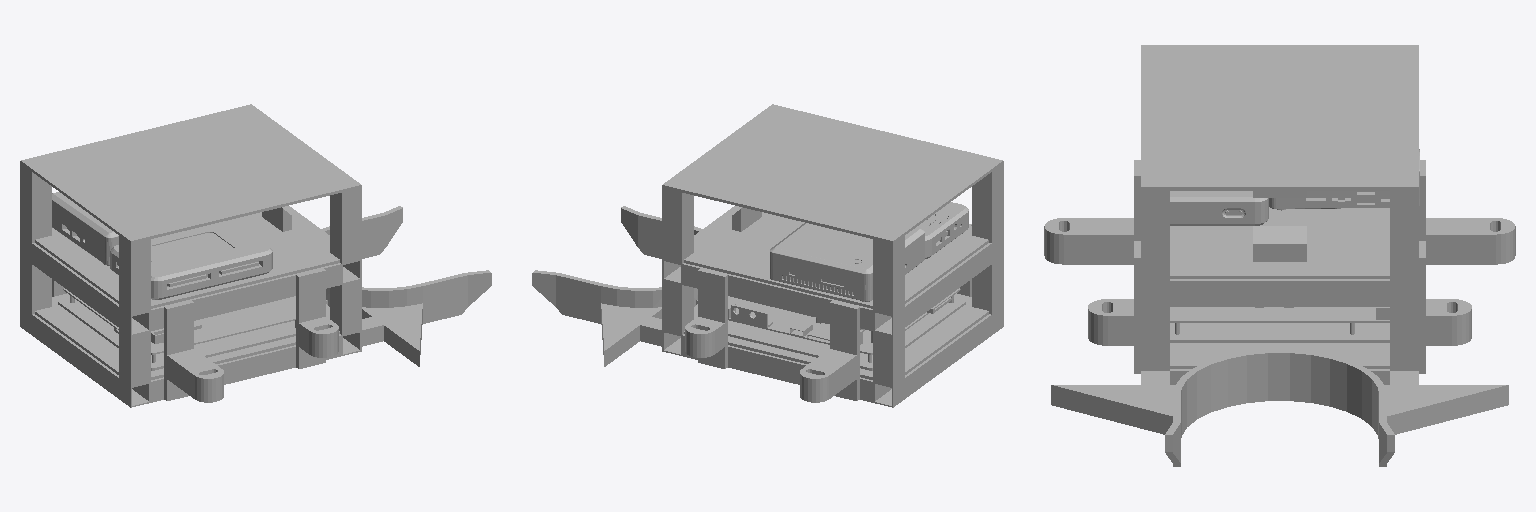
The robot description file, URDF, robot "lide":
<?xml version="1.0" encoding="utf-8"?>
<!-- This URDF was automatically created by SolidWorks to URDF Exporter! Originally created by [author] ([email redacted]) 
     Commit Version: 1.5.1-0-g916b5db  Build Version: 1.5.7152.31018
     For more information, please see http://wiki.ros.org/sw_urdf_exporter -->
<robot
  name="lide">
  <link
    name="base_link">
    <inertial>
      <origin
        xyz="-0.128036162467698 0.0849000506865905 0.0505742338532695"
        rpy="0 0 0" />
      <mass
        value="2.92032891635219" />
      <inertia
        ixx="0.00623119457208926"
        ixy="-6.06137450802783E-07"
        ixz="-1.19575978629178E-05"
        iyy="0.00559464379591167"
        iyz="-3.44724488787282E-07"
        izz="0.0111645591761783" />
    </inertial>
    <visual>
      <origin
        xyz="0 0 0"
        rpy="0 0 0" />
      <geometry>
        <mesh
          filename="package://lide/meshes/base_link.STL" />
      </geometry>
      <material
        name="">
        <color
          rgba="0.752941176470588 0.752941176470588 0.752941176470588 1" />
      </material>
    </visual>
    <collision>
      <origin
        xyz="0 0 0"
        rpy="0 0 0" />
      <geometry>
        <mesh
          filename="package://lide/meshes/base_link.STL" />
      </geometry>
    </collision>
  </link>
  <link
    name="LFS">
    <inertial>
      <origin
        xyz="0.0455604268709419 0.00830943309140332 0.00297622851896683"
        rpy="0 0 0" />
      <mass
        value="0.0727928435161986" />
      <inertia
        ixx="2.20927876796312E-05"
        ixy="-1.64845302056301E-08"
        ixz="-1.5645477317522E-07"
        iyy="1.62632133784213E-05"
        iyz="2.96411876511233E-09"
        izz="1.80843397531752E-05" />
    </inertial>
    <visual>
      <origin
        xyz="0 0 0"
        rpy="0 0 0" />
      <geometry>
        <mesh
          filename="package://lide/meshes/LFS.STL" />
      </geometry>
      <material
        name="">
        <color
          rgba="0.752941176470588 0.752941176470588 0.752941176470588 1" />
      </material>
    </visual>
    <collision>
      <origin
        xyz="0 0 0"
        rpy="0 0 0" />
      <geometry>
        <mesh
          filename="package://lide/meshes/LFS.STL" />
      </geometry>
    </collision>
  </link>
  <joint
    name="LFS"
    type="fixed">
    <origin
      xyz="-0.059044 0.1674 -0.036503"
      rpy="1.5708 0 1.5708" />
    <parent
      link="base_link" />
    <child
      link="LFS" />
    <axis
      xyz="0 0 0" />
  </joint>
  <link
    name="LFW">
    <inertial>
      <origin
        xyz="0.015 -6.93889390390723E-18 0"
        rpy="0 0 0" />
      <mass
        value="0.767080911081153" />
      <inertia
        ixx="0.00116426102407189"
        ixy="-1.25105048588131E-22"
        ixz="-1.83311841364852E-20"
        iyy="0.000639661580367031"
        iyz="-6.7762635780344E-21"
        izz="0.000639661580367032" />
    </inertial>
    <visual>
      <origin
        xyz="0 0 0"
        rpy="0 0 0" />
      <geometry>
        <mesh
          filename="package://lide/meshes/LFW.STL" />
      </geometry>
      <material
        name="">
        <color
          rgba="0.898039215686275 0.917647058823529 0.929411764705882 1" />
      </material>
    </visual>
    <collision>
      <origin
        xyz="0 0 0"
        rpy="0 0 0" />
      <geometry>
        <mesh
          filename="package://lide/meshes/LFW.STL" />
      </geometry>
    </collision>
  </link>
  <joint
    name="LFW"
    type="continuous">
    <origin
      xyz="0.063346 -0.006798 0.015044"
      rpy="-1.6264 0 0" />
    <parent
      link="LFS" />
    <child
      link="LFW" />
    <axis
      xyz="1 0 0" />
    <limit
      effort="3.1"
      velocity="7" />
  </joint>
  <link
    name="RFS">
    <inertial>
      <origin
        xyz="-0.0191828308457407 -0.00900932874707057 0.0520056318885905"
        rpy="0 0 0" />
      <mass
        value="0.0727928435161986" />
      <inertia
        ixx="2.20927876796313E-05"
        ixy="-1.64845302056311E-08"
        ixz="1.56454773175212E-07"
        iyy="1.62632133784213E-05"
        iyz="-2.96411876510581E-09"
        izz="1.80843397531752E-05" />
    </inertial>
    <visual>
      <origin
        xyz="0 0 0"
        rpy="0 0 0" />
      <geometry>
        <mesh
          filename="package://lide/meshes/RFS.STL" />
      </geometry>
      <material
        name="">
        <color
          rgba="0.752941176470588 0.752941176470588 0.752941176470588 1" />
      </material>
    </visual>
    <collision>
      <origin
        xyz="0 0 0"
        rpy="0 0 0" />
      <geometry>
        <mesh
          filename="package://lide/meshes/RFS.STL" />
      </geometry>
    </collision>
  </link>
  <joint
    name="RFS"
    type="fixed">
    <origin
      xyz="-0.10807 -0.027781 -0.019216"
      rpy="1.5708 0 1.5708" />
    <parent
      link="base_link" />
    <child
      link="RFS" />
    <axis
      xyz="0 0 0" />
  </joint>
  <link
    name="RFW">
    <inertial>
      <origin
        xyz="-0.015 -3.46944695195361E-18 0"
        rpy="0 0 0" />
      <mass
        value="0.767080911081152" />
      <inertia
        ixx="0.00116426102407189"
        ixy="-4.9281223125782E-37"
        ixz="4.60638074444741E-39"
        iyy="0.000639661580367031"
        iyz="-5.25031148738029E-37"
        izz="0.000639661580367031" />
    </inertial>
    <visual>
      <origin
        xyz="0 0 0"
        rpy="0 0 0" />
      <geometry>
        <mesh
          filename="package://lide/meshes/RFW.STL" />
      </geometry>
      <material
        name="">
        <color
          rgba="0.898039215686275 0.917647058823529 0.929411764705882 1" />
      </material>
    </visual>
    <collision>
      <origin
        xyz="0 0 0"
        rpy="0 0 0" />
      <geometry>
        <mesh
          filename="package://lide/meshes/RFW.STL" />
      </geometry>
    </collision>
  </link>
  <joint
    name="RFW"
    type="continuous">
    <origin
      xyz="-0.036969 -0.024084 0.064073"
      rpy="0 0 0" />
    <parent
      link="RFS" />
    <child
      link="RFW" />
    <axis
      xyz="1 0 0" />
    <limit
      effort="3.1"
      velocity="7" />
  </joint>
  <link
    name="LBS">
    <inertial>
      <origin
        xyz="-4.7988246709707E-10 -0.0234733898228721 -1.16815021544703E-09"
        rpy="0 0 0" />
      <mass
        value="0.0835358720814331" />
      <inertia
        ixx="7.72968060896302E-05"
        ixy="-8.60478095936647E-13"
        ixz="1.40586689563478E-13"
        iyy="5.13820931926884E-05"
        iyz="-5.06559896290249E-12"
        izz="7.73952626484254E-05" />
    </inertial>
    <visual>
      <origin
        xyz="0 0 0"
        rpy="0 0 0" />
      <geometry>
        <mesh
          filename="package://lide/meshes/LBS.STL" />
      </geometry>
      <material
        name="">
        <color
          rgba="0.898039215686275 0.917647058823529 0.929411764705882 1" />
      </material>
    </visual>
    <collision>
      <origin
        xyz="0 0 0"
        rpy="0 0 0" />
      <geometry>
        <mesh
          filename="package://lide/meshes/LBS.STL" />
      </geometry>
    </collision>
  </link>
  <joint
    name="LBS"
    type="fixed">
    <origin
      xyz="-0.202 0.24575 -0.012562"
      rpy="1.5708 0 1.5708" />
    <parent
      link="base_link" />
    <child
      link="LBS" />
    <axis
      xyz="0 0 0" />
  </joint>
  <link
    name="LBW">
    <inertial>
      <origin
        xyz="0 0 -2.77555756156289E-17"
        rpy="0 0 0" />
      <mass
        value="0.299097213540614" />
      <inertia
        ixx="0.000107128427988291"
        ixy="-7.7154576721694E-22"
        ixz="-6.56176679301773E-22"
        iyy="0.000109833959413418"
        iyz="-8.63231614238912E-20"
        izz="0.000107128427988291" />
    </inertial>
    <visual>
      <origin
        xyz="0 0 0"
        rpy="0 0 0" />
      <geometry>
        <mesh
          filename="package://lide/meshes/LBW.STL" />
      </geometry>
      <material
        name="">
        <color
          rgba="0.898039215686275 0.917647058823529 0.929411764705882 1" />
      </material>
    </visual>
    <collision>
      <origin
        xyz="0 0 0"
        rpy="0 0 0" />
      <geometry>
        <mesh
          filename="package://lide/meshes/LBW.STL" />
      </geometry>
    </collision>
  </link>
  <joint
    name="LBW"
    type="fixed">
    <origin
      xyz="0 -0.055738 0"
      rpy="3.1416 0 1.5708" />
    <parent
      link="LBS" />
    <child
      link="LBW" />
    <axis
      xyz="0 0 0" />
  </joint>
  <link
    name="RBS">
    <inertial>
      <origin
        xyz="-4.79882529547115E-10 -0.0234733898228721 -1.16815021544703E-09"
        rpy="0 0 0" />
      <mass
        value="0.0835358720814328" />
      <inertia
        ixx="7.72968060896302E-05"
        ixy="-8.60478108781142E-13"
        ixz="1.40586703370834E-13"
        iyy="5.13820931926882E-05"
        iyz="-5.0655989562236E-12"
        izz="7.73952626484254E-05" />
    </inertial>
    <visual>
      <origin
        xyz="0 0 0"
        rpy="0 0 0" />
      <geometry>
        <mesh
          filename="package://lide/meshes/RBS.STL" />
      </geometry>
      <material
        name="">
        <color
          rgba="0.898039215686275 0.917647058823529 0.929411764705882 1" />
      </material>
    </visual>
    <collision>
      <origin
        xyz="0 0 0"
        rpy="0 0 0" />
      <geometry>
        <mesh
          filename="package://lide/meshes/RBS.STL" />
      </geometry>
    </collision>
  </link>
  <joint
    name="RBS"
    type="fixed">
    <origin
      xyz="-0.202 -0.07975 -0.012562"
      rpy="1.5708 0 1.5708" />
    <parent
      link="base_link" />
    <child
      link="RBS" />
    <axis
      xyz="0 0 0" />
  </joint>
  <link
    name="RBW">
    <inertial>
      <origin
        xyz="-6.93889390390723E-18 -6.93889390390723E-18 0"
        rpy="0 0 0" />
      <mass
        value="0.299097213540614" />
      <inertia
        ixx="0.000107128427988291"
        ixy="1.42968110446033E-21"
        ixz="-2.66815378385127E-22"
        iyy="0.000109833959413418"
        iyz="-8.63398373850403E-20"
        izz="0.000107128427988291" />
    </inertial>
    <visual>
      <origin
        xyz="0 0 0"
        rpy="0 0 0" />
      <geometry>
        <mesh
          filename="package://lide/meshes/RBW.STL" />
      </geometry>
      <material
        name="">
        <color
          rgba="0.898039215686275 0.917647058823529 0.929411764705882 1" />
      </material>
    </visual>
    <collision>
      <origin
        xyz="0 0 0"
        rpy="0 0 0" />
      <geometry>
        <mesh
          filename="package://lide/meshes/RBW.STL" />
      </geometry>
    </collision>
  </link>
  <joint
    name="RBW"
    type="fixed">
    <origin
      xyz="0 -0.055738 0"
      rpy="0 0 -1.5708" />
    <parent
      link="RBS" />
    <child
      link="RBW" />
    <axis
      xyz="0 0 0" />
  </joint>
  <link
    name="fcam">
    <inertial>
      <origin
        xyz="-0.0115544746517359 -2.64429642850283E-06 0.00129029302682174"
        rpy="0 0 0" />
      <mass
        value="0.0436119957238952" />
      <inertia
        ixx="2.35707061906175E-05"
        ixy="-1.01842273865751E-09"
        ixz="2.17585832536658E-08"
        iyy="4.29479050056035E-06"
        iyz="-8.8501811875944E-10"
        izz="2.21058153511886E-05" />
    </inertial>
    <visual>
      <origin
        xyz="0 0 0"
        rpy="0 0 0" />
      <geometry>
        <mesh
          filename="package://lide/meshes/fcam.STL" />
      </geometry>
      <material
        name="">
        <color
          rgba="0.792156862745098 0.819607843137255 0.933333333333333 1" />
      </material>
    </visual>
    <collision>
      <origin
        xyz="0 0 0"
        rpy="0 0 0" />
      <geometry>
        <mesh
          filename="package://lide/meshes/fcam.STL" />
      </geometry>
    </collision>
  </link>
  <joint
    name="fcam"
    type="fixed">
    <origin
      xyz="-0.0038823 0.083 0.12982"
      rpy="0 0.2618 0" />
    <parent
      link="base_link" />
    <child
      link="fcam" />
    <axis
      xyz="0 0 0" />
  </joint>
  <link
    name="bcam">
    <inertial>
      <origin
        xyz="-0.02010346452991 -2.64354903288522E-06 -0.00725869505663598"
        rpy="0 0 0" />
      <mass
        value="0.0436119949785286" />
      <inertia
        ixx="2.357070560996E-05"
        ixy="-1.01834758005627E-09"
        ixz="2.17579332532706E-08"
        iyy="4.29479078276665E-06"
        iyz="-8.85484503962029E-10"
        izz="2.21058144654638E-05" />
    </inertial>
    <visual>
      <origin
        xyz="0 0 0"
        rpy="0 0 0" />
      <geometry>
        <mesh
          filename="package://lide/meshes/bcam.STL" />
      </geometry>
      <material
        name="">
        <color
          rgba="0.792156862745098 0.819607843137255 0.933333333333333 1" />
      </material>
    </visual>
    <collision>
      <origin
        xyz="0 0 0"
        rpy="0 0 0" />
      <geometry>
        <mesh
          filename="package://lide/meshes/bcam.STL" />
      </geometry>
    </collision>
  </link>
  <joint
    name="bcam"
    type="fixed">
    <origin
      xyz="0 0.083 0.091232"
      rpy="0 0.7854 0" />
    <parent
      link="base_link" />
    <child
      link="bcam" />
    <axis
      xyz="0 0 0" />
  </joint>
  <link
    name="Lidar">
    <inertial>
      <origin
        xyz="0.0135233595886409 0.000461955982206344 -0.0287648854950511"
        rpy="0 0 0" />
      <mass
        value="0.0730845717569496" />
      <inertia
        ixx="1.95808757419765E-05"
        ixy="-1.03933585736234E-07"
        ixz="-4.28391168396098E-07"
        iyy="2.41250079666672E-05"
        iyz="9.42710206434157E-09"
        izz="4.14184516368183E-05" />
    </inertial>
    <visual>
      <origin
        xyz="0 0 0"
        rpy="0 0 0" />
      <geometry>
        <mesh
          filename="package://lide/meshes/Lidar.STL" />
      </geometry>
      <material
        name="">
        <color
          rgba="0.792156862745098 0.819607843137255 0.933333333333333 1" />
      </material>
    </visual>
    <collision>
      <origin
        xyz="0 0 0"
        rpy="0 0 0" />
      <geometry>
        <mesh
          filename="package://lide/meshes/Lidar.STL" />
      </geometry>
    </collision>
  </link>
  <joint
    name="Lidar"
    type="fixed">
    <origin
      xyz="-0.19458 0.082006 0.2065"
      rpy="0 0 0" />
    <parent
      link="base_link" />
    <child
      link="Lidar" />
    <axis
      xyz="0 0 0" />
  </joint>
  <link
    name="imu_link">
    <inertial>
      <origin
        xyz="0.00385022026093959 6.23984008056022E-05 -0.00103377575234337"
        rpy="0 0 0" />
      <mass
        value="0.00189180567975737" />
      <inertia
        ixx="7.79431263454135E-08"
        ixy="1.39214190556514E-10"
        ixz="1.54511633252899E-11"
        iyy="4.85473464623125E-08"
        iyz="-6.30099051334897E-11"
        izz="1.25233585370532E-07" />
    </inertial>
    <visual>
      <origin
        xyz="0 0 0"
        rpy="0 0 0" />
      <geometry>
        <mesh
          filename="package://lide/meshes/imu_link.STL" />
      </geometry>
      <material
        name="">
        <color
          rgba="0.898039215686275 0.917647058823529 0.929411764705882 1" />
      </material>
    </visual>
    <collision>
      <origin
        xyz="0 0 0"
        rpy="0 0 0" />
      <geometry>
        <mesh
          filename="package://lide/meshes/imu_link.STL" />
      </geometry>
    </collision>
  </link>
  <joint
    name="imu_link"
    type="fixed">
    <origin
      xyz="-0.044 0.083 0.155"
      rpy="0 0 0" />
    <parent
      link="base_link" />
    <child
      link="imu_link" />
    <axis
      xyz="0 0 0" />
  </joint>
</robot>

--- Render facts (derived) ---
The picture shows the robot from 3 angles, left to right: view 1: azimuth 30°, elevation 25°; view 2: azimuth 150°, elevation 25°; view 3: azimuth 270°, elevation 25°; orthographic projection.
Robot: lide — 13 links, 12 joints (2 continuous, 10 fixed); root link base_link; default pose: every joint at zero.
Visible links, largest first — view 1: base_link; view 2: base_link; view 3: base_link.
Boxes of the visible links, x1,y1,x2,y2 form: base_link: (20, 104, 491, 407); base_link: (532, 104, 1003, 407); base_link: (1044, 45, 1515, 466).
Size in the robot's own frame: 0.407 by 0.3555 by 0.175 metres.
1 mesh visuals loaded from 13 distinct referenced files (1 binary STL); not drawn: 12 (reference not matched to a file when rendering).